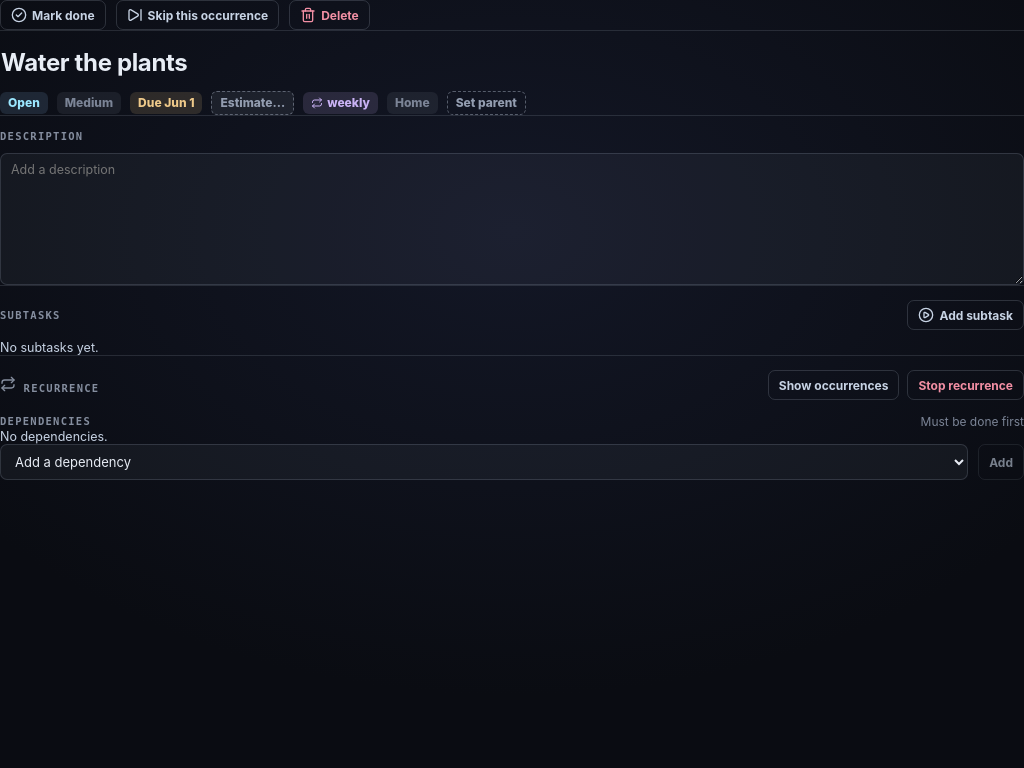
Test: Recurrence UI › enables the repeat chip once a due date is set
This screenshot has width=1024, height=768.
What coordinates should you click on to do the following:
click the button with aria-label "Repeat: weekly"
I would click on:
 (341, 103)
Its box is [303,92,378,114].
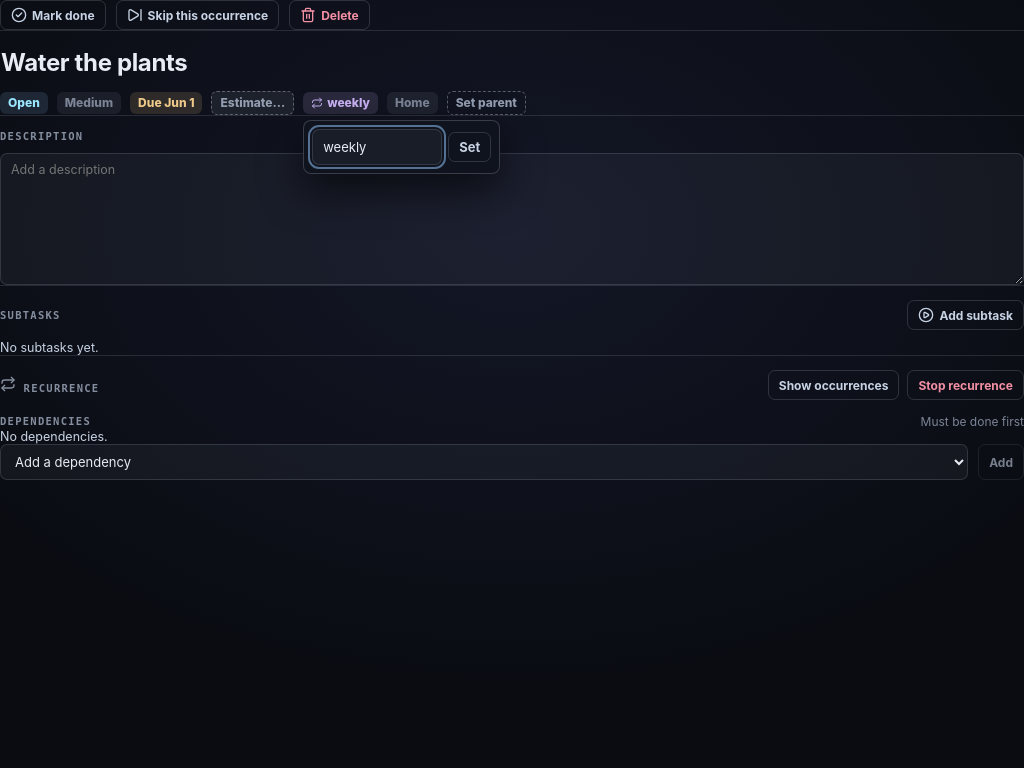
expect the field named "Repeat" holds "weekly": met, box [312,129,442,165]
